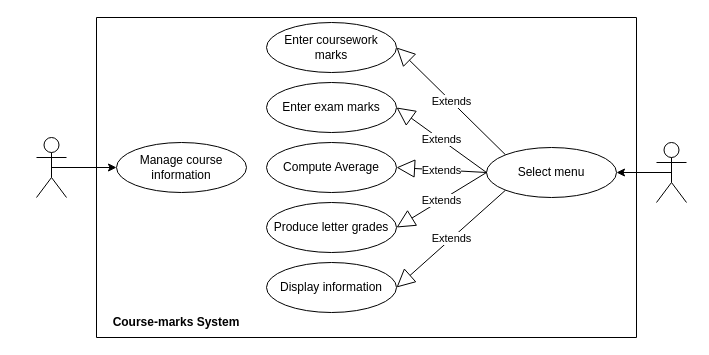
Image size: 709x355. Some labels were removed from this diagram. The shapes that lost their labels are listed below. From the top down, each one's centre as x and y in pixels, then its label:
At (51,167): "administrator".
At (671,172): "lecturer".
